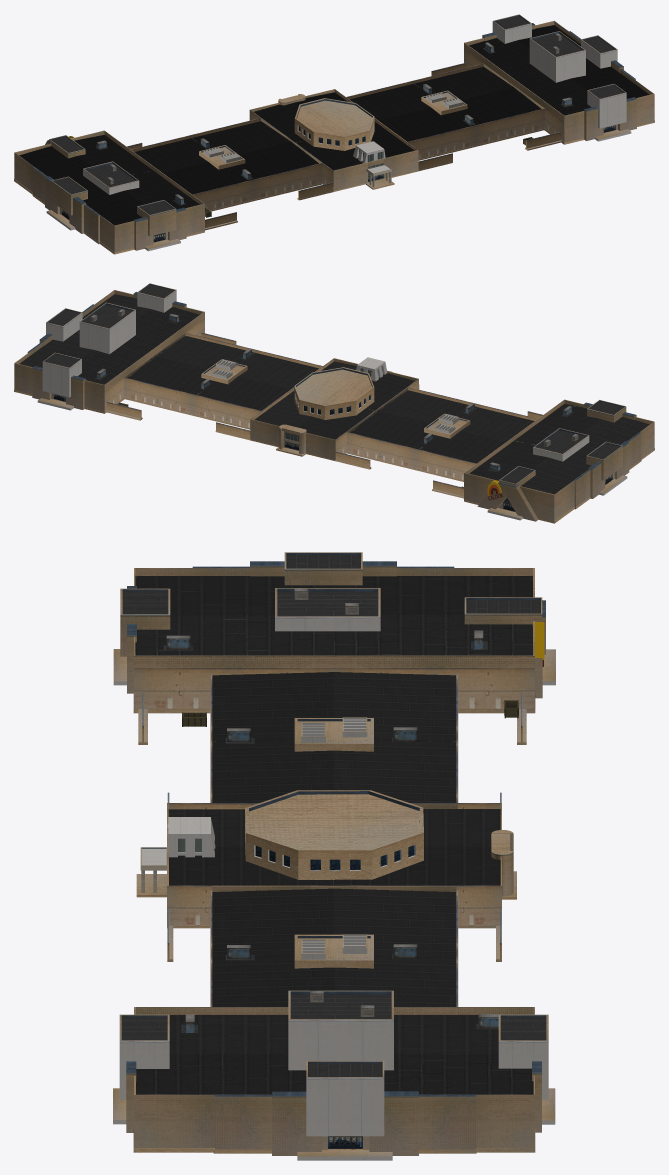
File: MallJoined.fbx
The picture shows the model from 3 angles, top to bottom: view 1: azimuth 30°, elevation 25°; view 2: azimuth 150°, elevation 25°; view 3: azimuth 270°, elevation 25°; orthographic projection. The views are drawn at different scales.
Parts seen in each view (by area): view 1: Cube5; view 2: Cube5; view 3: Cube5.
Part boxes in pixels (left/top/right/bottom): Cube5: left=14, top=14, right=654, bottom=254; Cube5: left=14, top=283, right=654, bottom=523; Cube5: left=113, top=552, right=555, bottom=1160.
Bounding box in the file's own units: 203 × 18.88 × 69.8.
Materials: 1 (1 with a texture image).
